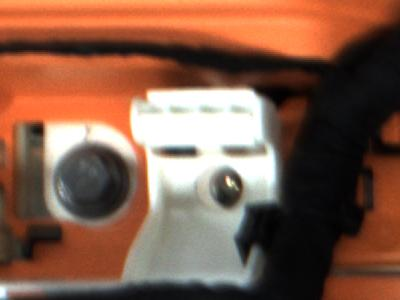nut_b: (48, 135, 127, 221)
